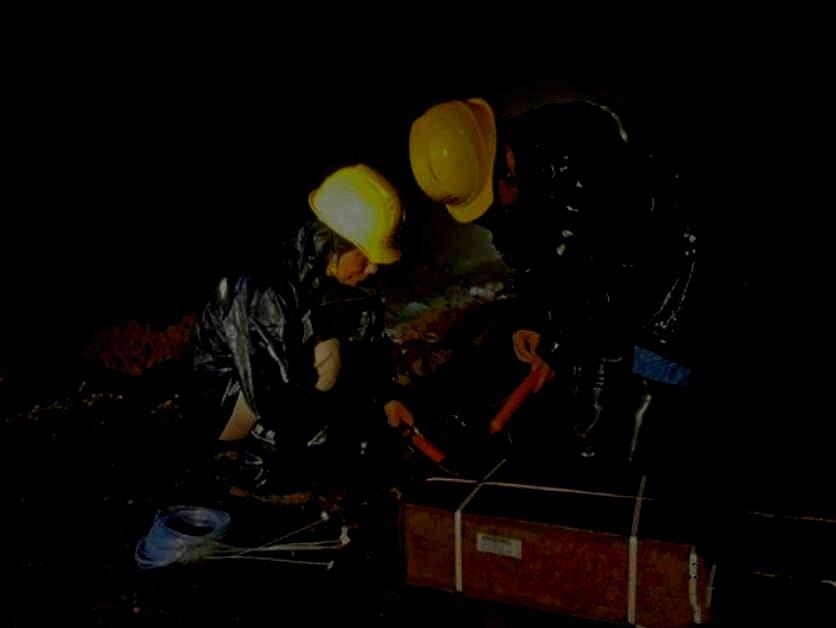helmet: (408, 97, 521, 223), (307, 164, 405, 285)
